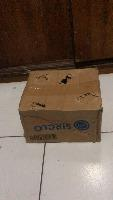damaged package: (74, 90, 97, 104), (30, 98, 45, 111), (33, 73, 49, 84), (56, 75, 72, 85)
undamaged: (15, 65, 104, 145)
